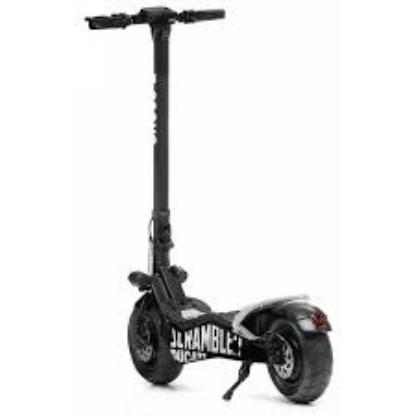bike: (127, 265, 333, 406)
